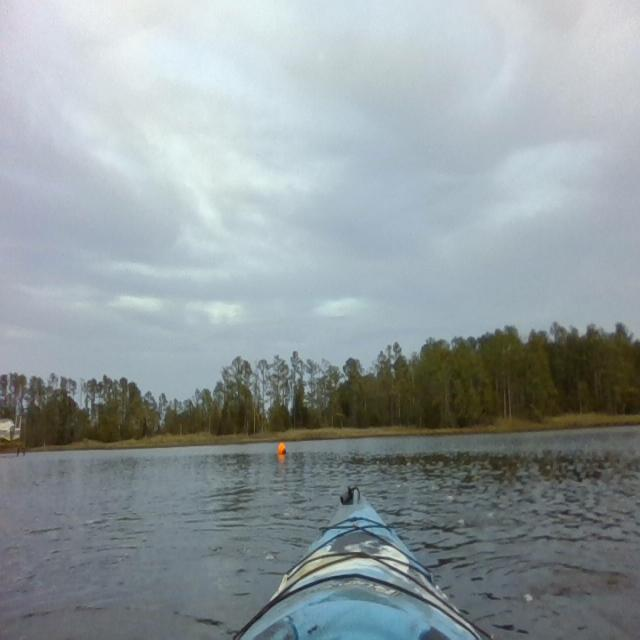Buoy: (277, 439, 288, 459)
